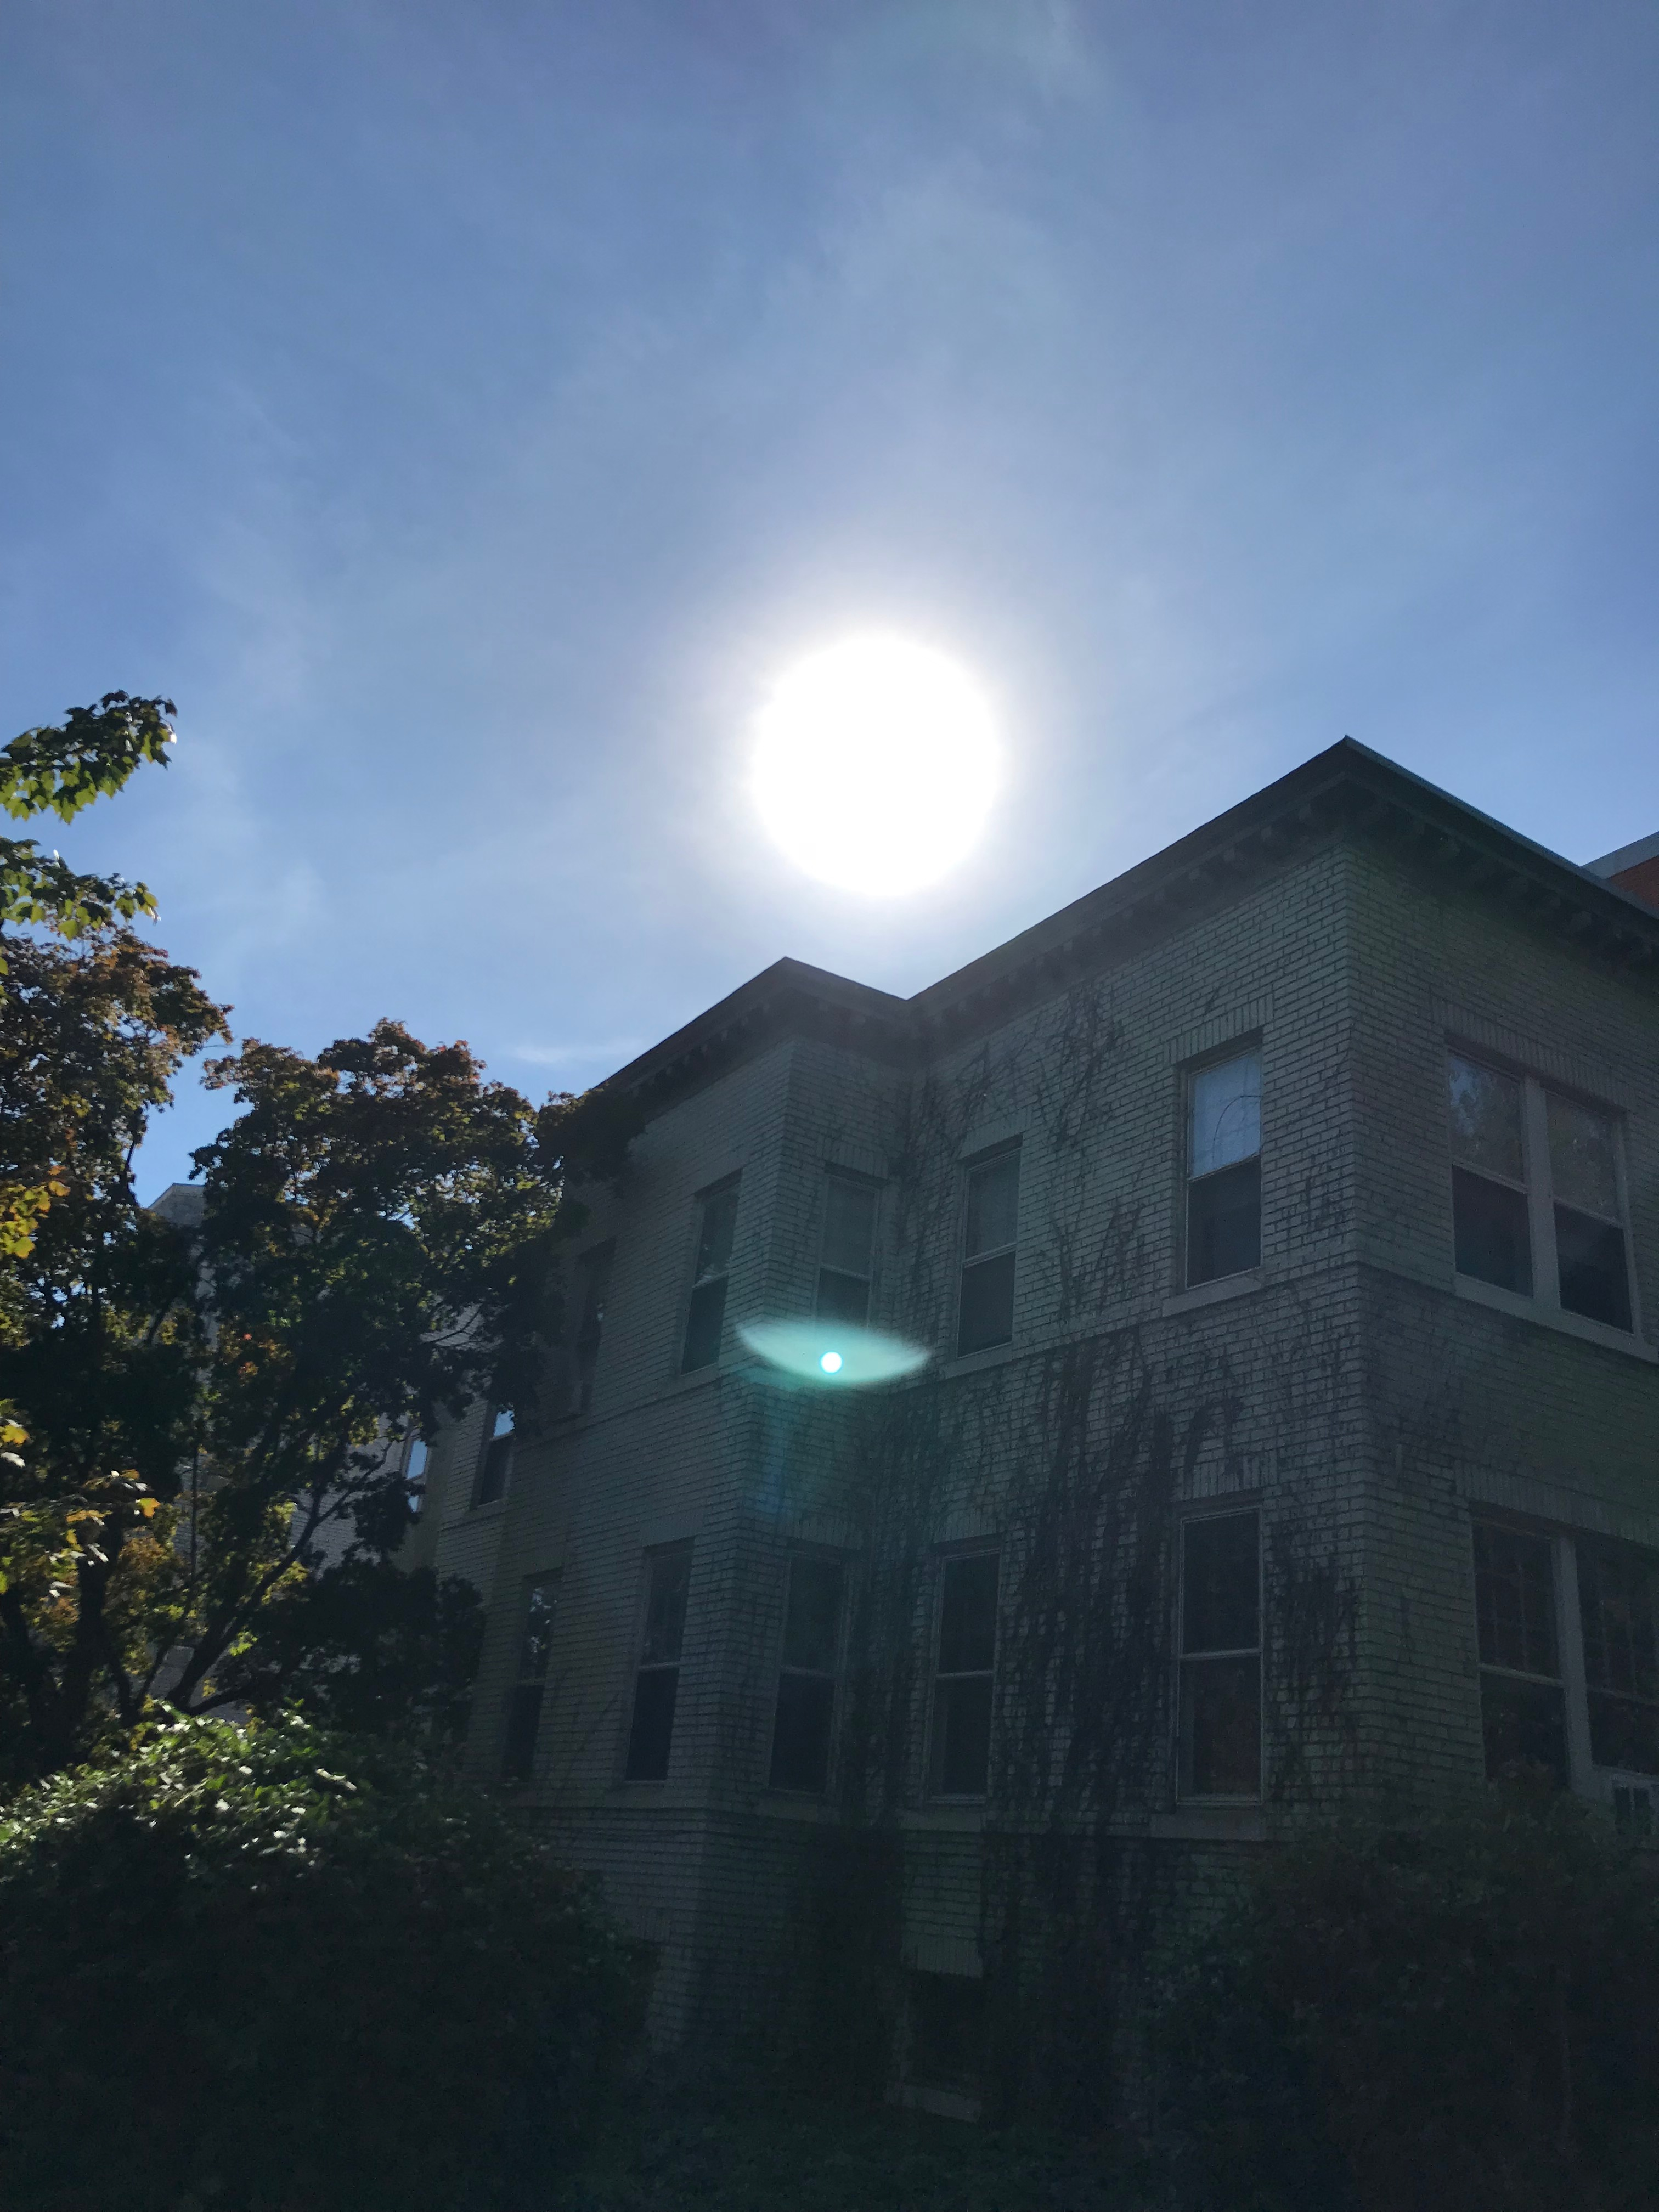flare: (816, 1348, 847, 1378)
